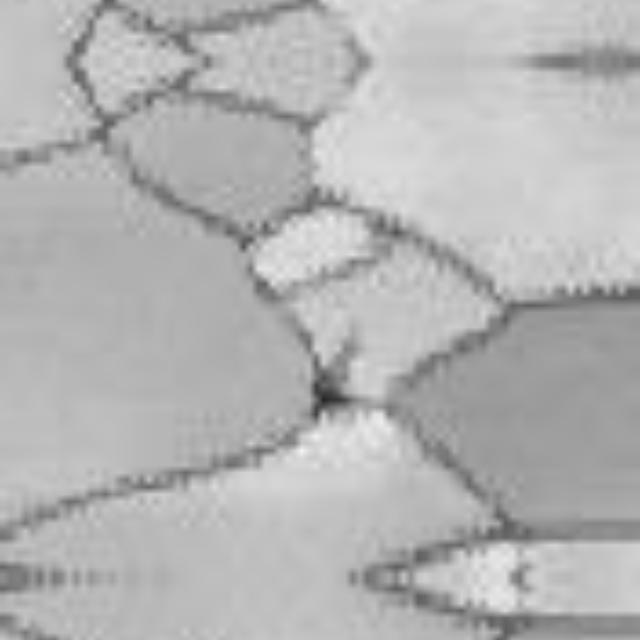good_void: (299, 329, 361, 426)
